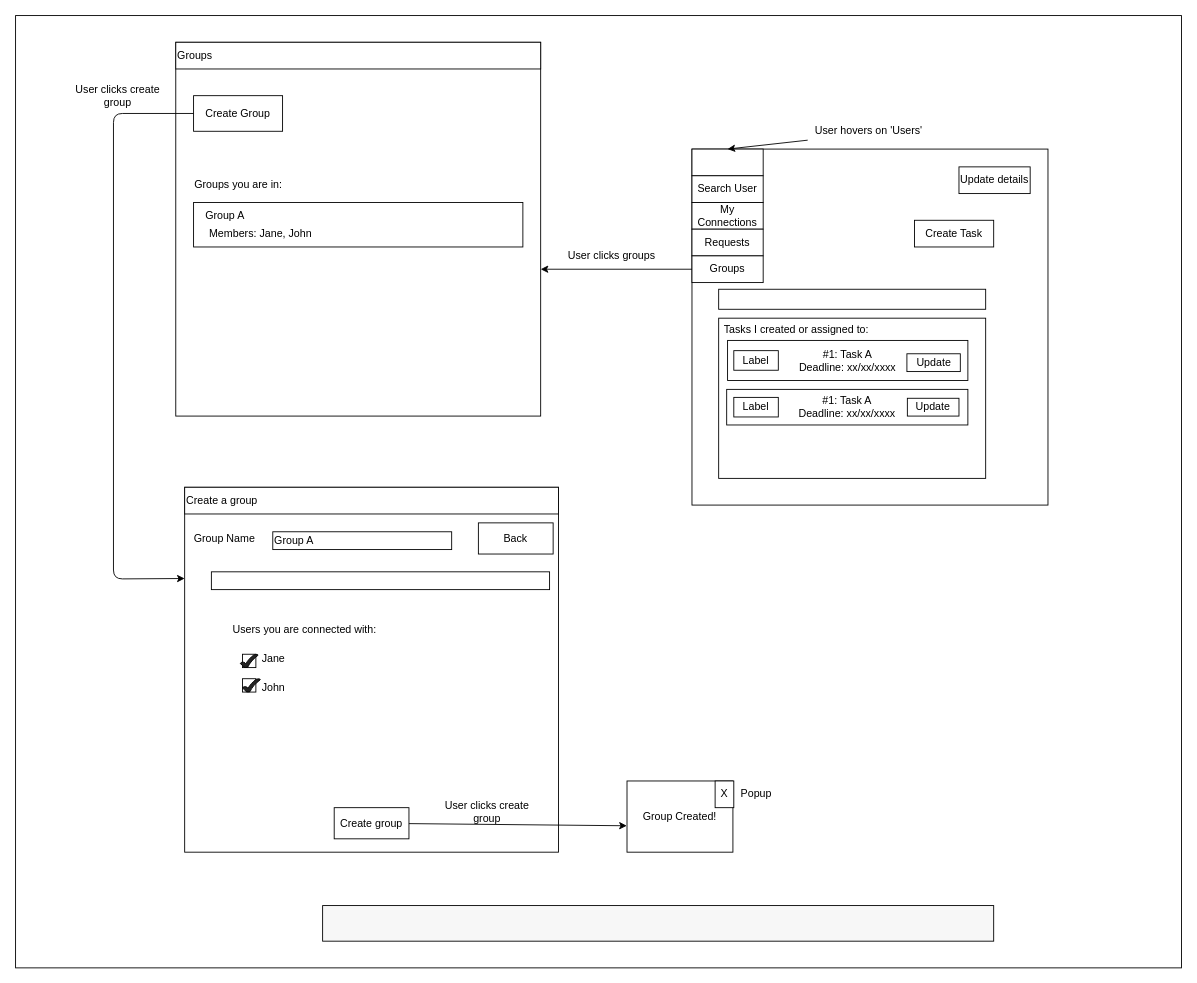
This 1197x983 diagram has some shape labels left out. The shapes that lost their labels are listed below. From the top down, each one's centre as x and y in pixels, then its label:
point 727,162: Users
point 852,298: Search tasks
point 380,580: Search
point 658,923: Included User Stories: CWC-48
